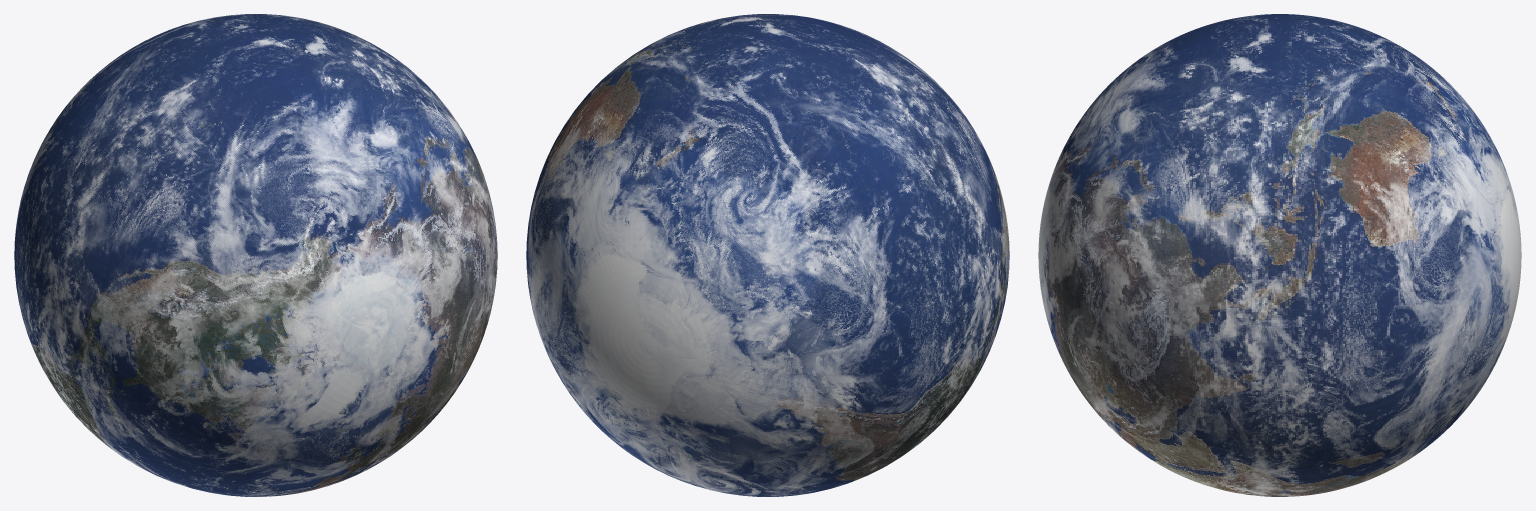
3 views of the same model, side by side, from view 1: azimuth 30°, elevation 25°; view 2: azimuth 150°, elevation 25°; view 3: azimuth 270°, elevation 25° (orthographic).
Parts seen in each view (by area): view 1: SM_earth.1; view 2: SM_earth.1; view 3: SM_earth.1.
Part boxes in pixels (bbox=[...]): SM_earth.1: bbox=[14, 14, 497, 496]; SM_earth.1: bbox=[526, 14, 1009, 496]; SM_earth.1: bbox=[1038, 14, 1521, 496].
Bounding box in the file's own units: 2 × 2 × 2.
Materials: 1 (1 with a texture image).
